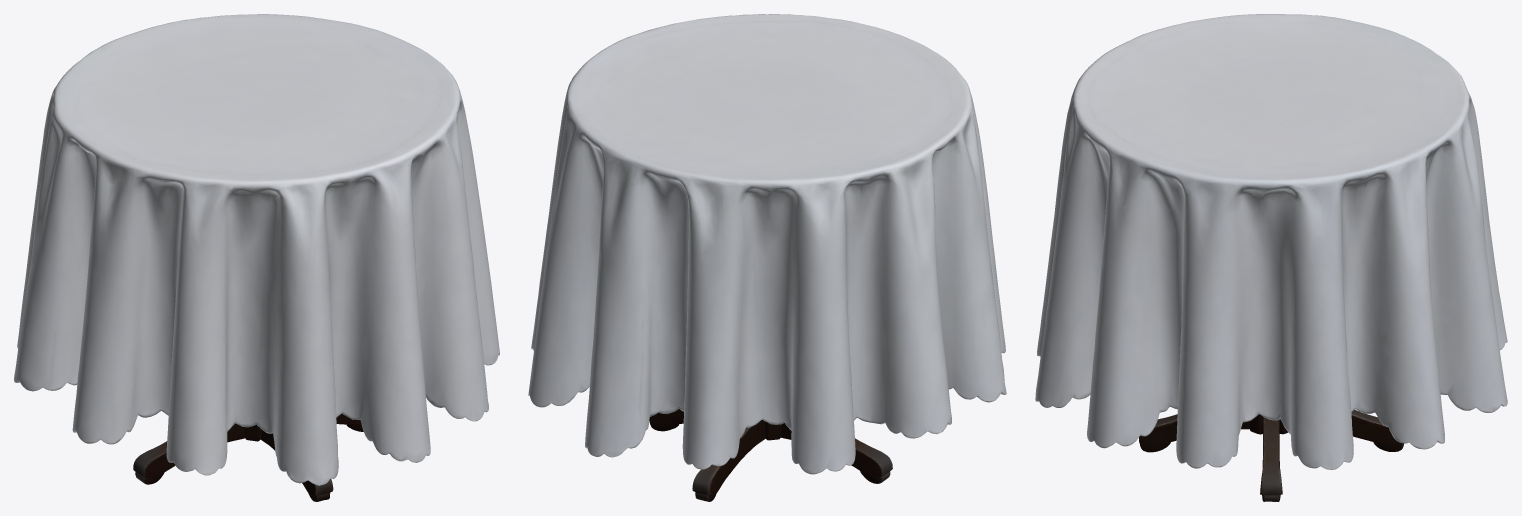
The picture shows the model from 3 angles, left to right: view 1: azimuth 30°, elevation 25°; view 2: azimuth 150°, elevation 25°; view 3: azimuth 270°, elevation 25°; orthographic projection.
Visible parts, largest first — view 1: model; view 2: model; view 3: model.
Boxes of the visible parts, bbox=[...] form: model: bbox=[14, 14, 499, 501]; model: bbox=[528, 14, 1006, 501]; model: bbox=[1035, 14, 1507, 501].
Bounding box in the file's own units: 0.9 × 0.74 × 0.9.
Materials: 1 (1 with a texture image).
